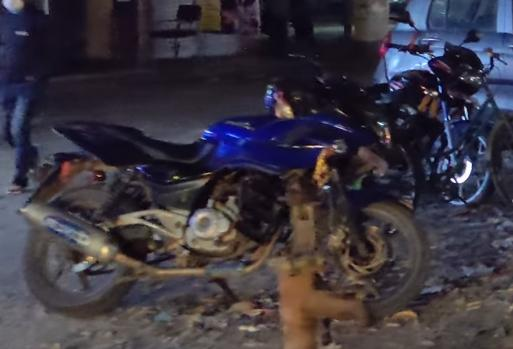bike: (14, 83, 434, 324)
